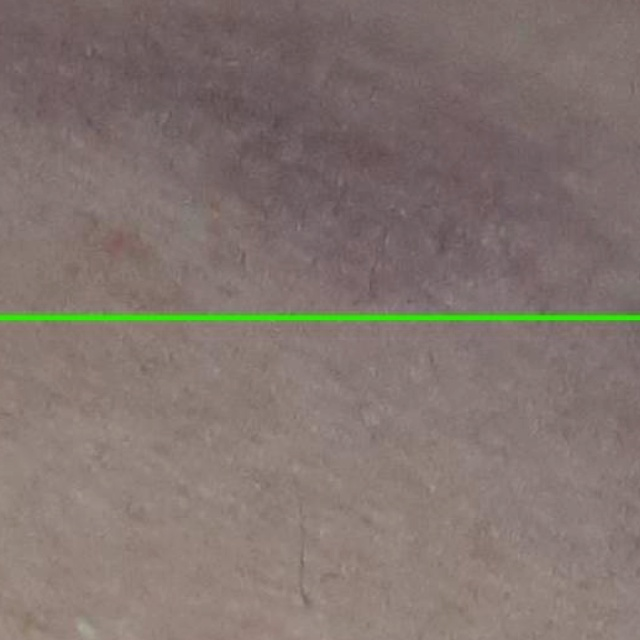Tinea Corporis: (0, 0, 639, 317)
